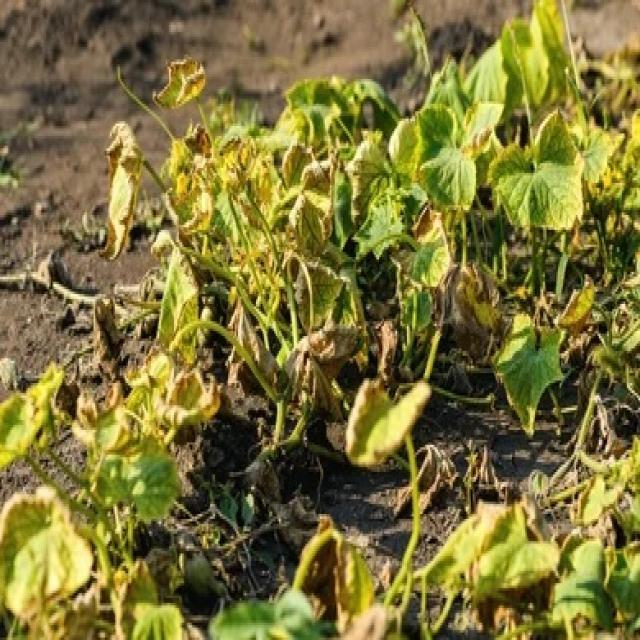Aphids: (162, 133, 302, 314), (327, 134, 443, 254), (276, 314, 390, 414), (94, 92, 152, 274), (248, 439, 338, 556), (414, 436, 523, 530), (434, 260, 520, 370), (593, 164, 638, 286), (86, 289, 146, 376), (592, 381, 640, 473), (154, 49, 218, 112)
